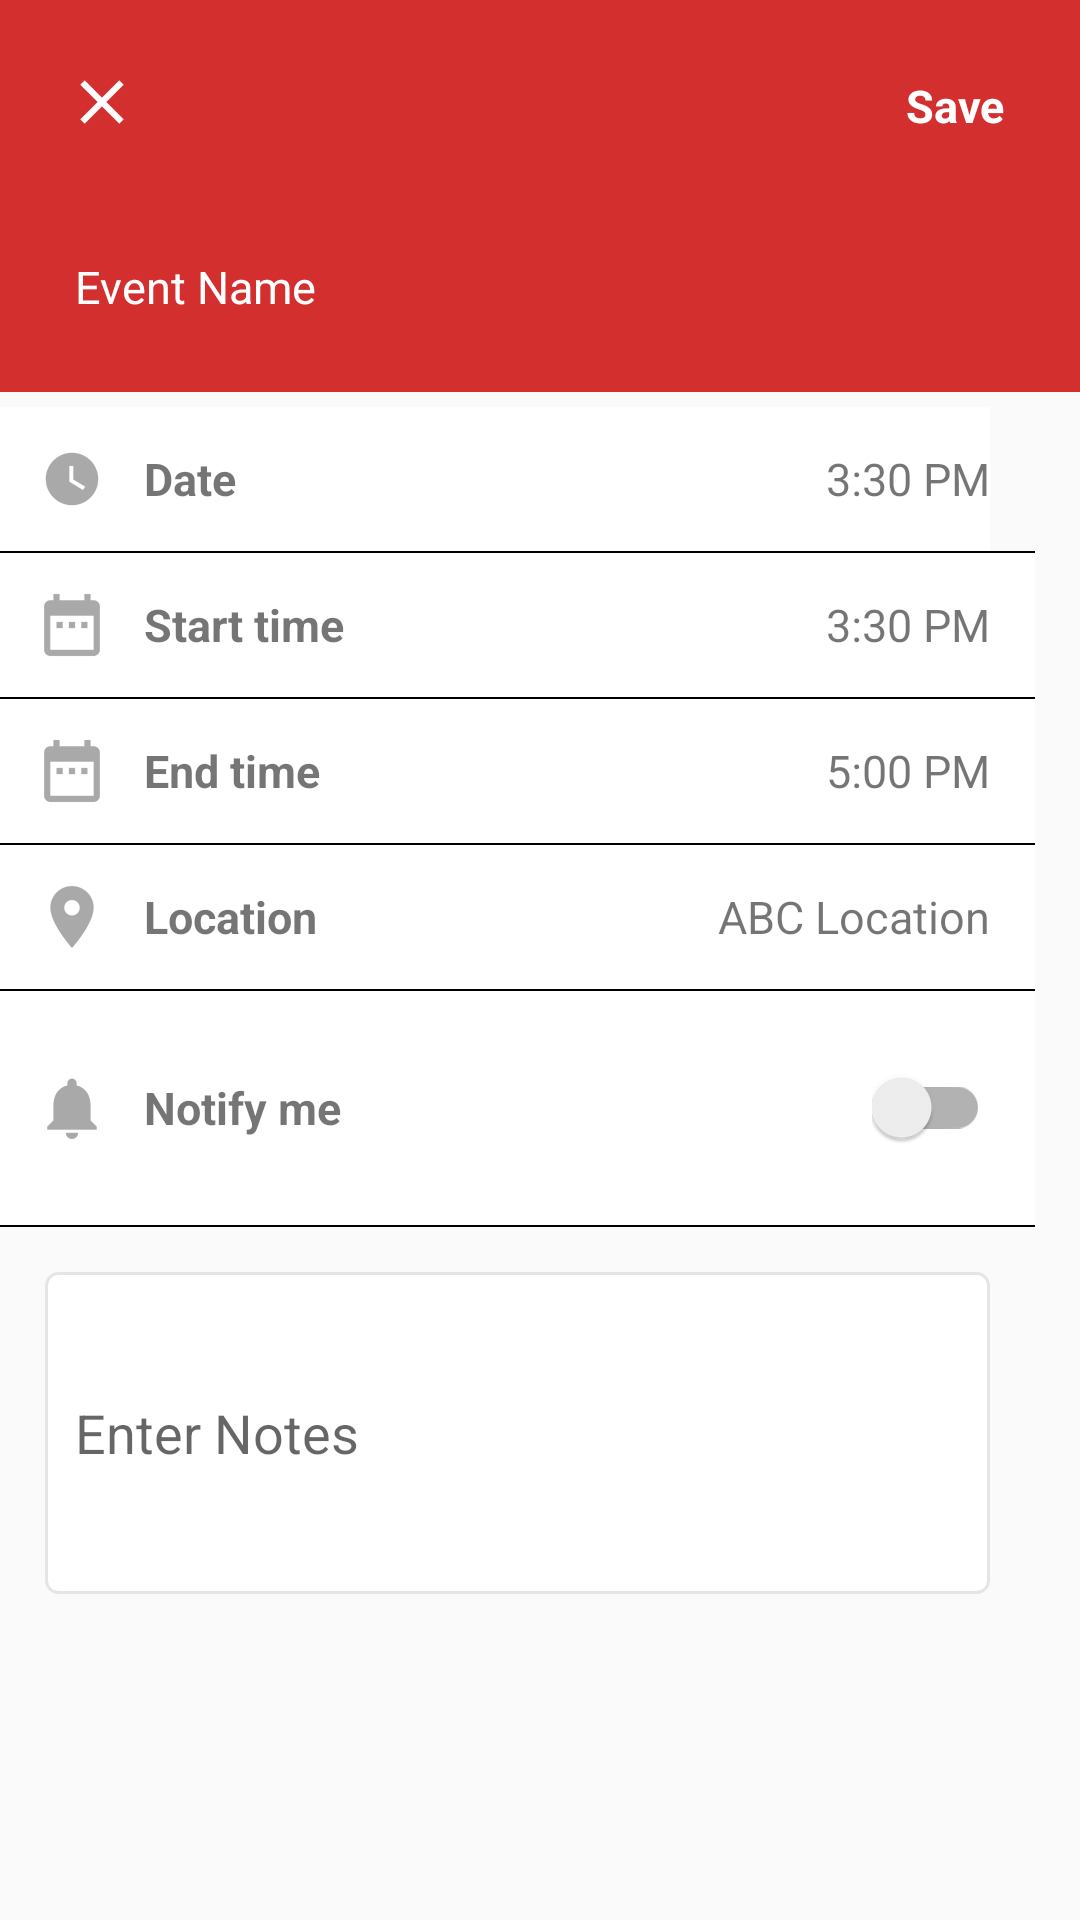

Locate icon controls on the screen. Image size 1080 × 1920, boxes as (x1, y1, x2, y2).
calender: (44, 594, 100, 656), (44, 740, 100, 802)
clock: (46, 453, 98, 505)
cross: (80, 80, 124, 124)
notification: (47, 1078, 97, 1139)
